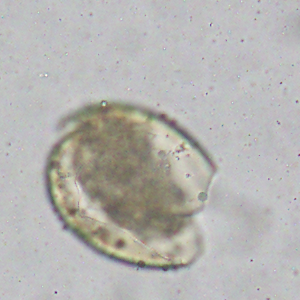Fasciola_hepatica_egg: (42, 99, 219, 272)
